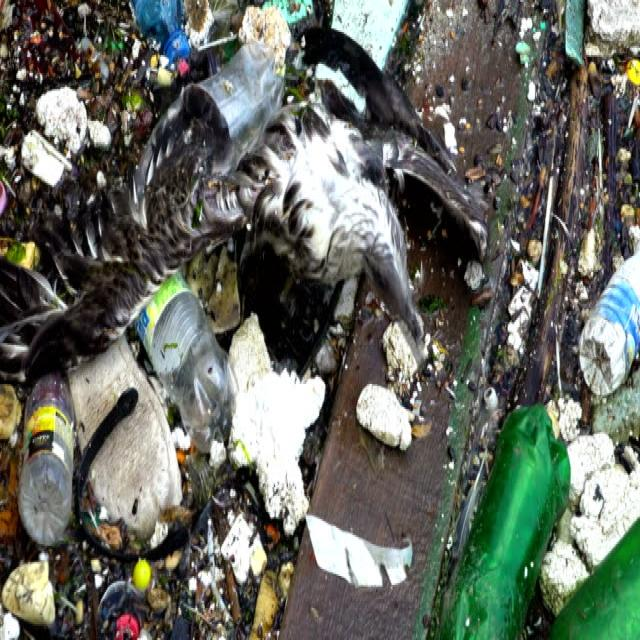plastic: (442, 400, 567, 638), (12, 394, 83, 562)
